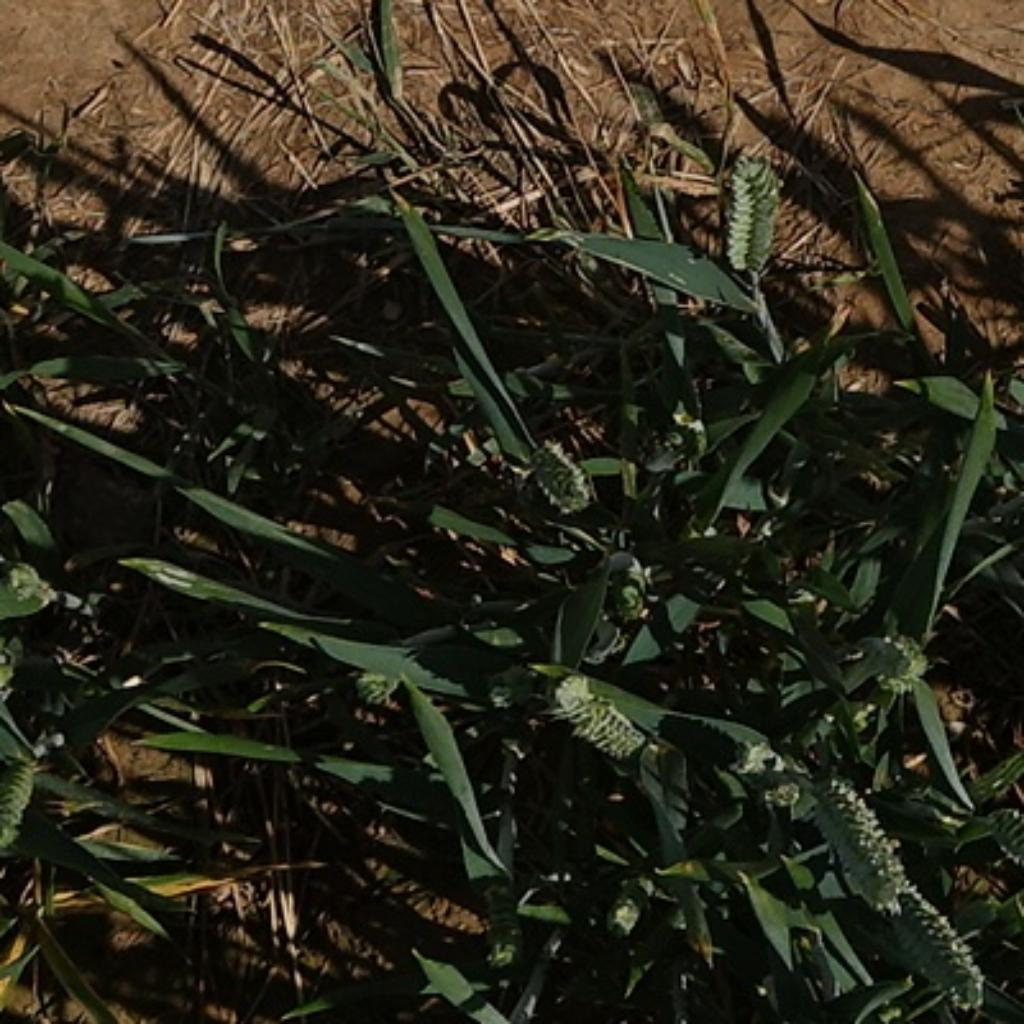0-0: (780, 755, 916, 913), (878, 878, 983, 998), (542, 663, 652, 765), (714, 153, 785, 271), (578, 545, 663, 637), (844, 616, 934, 696), (512, 432, 596, 514), (975, 793, 1024, 880), (2, 757, 46, 837), (348, 657, 399, 701)
